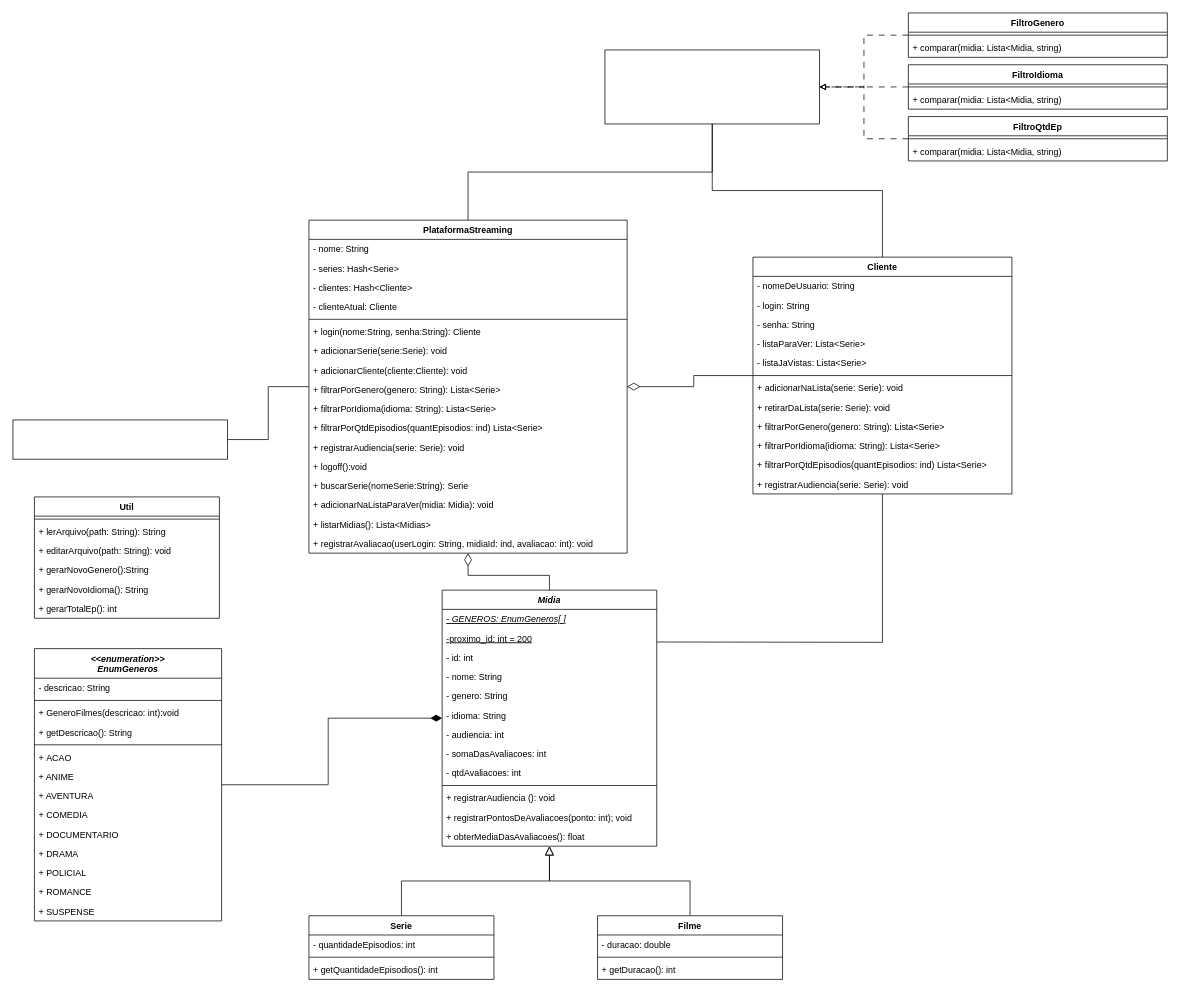
The diagram is 1180 pixels wide and 995 high, and some of its shapes have lost their labels. The centre of each missing label's shape, as x and y in pixels:
"<<Interface>> IFILTRO + comparar(midia: Lista<Midia, string)" belongs at point (712, 86).
"DAO + salvar (path: String, CSV: String): void" belongs at point (120, 439).
